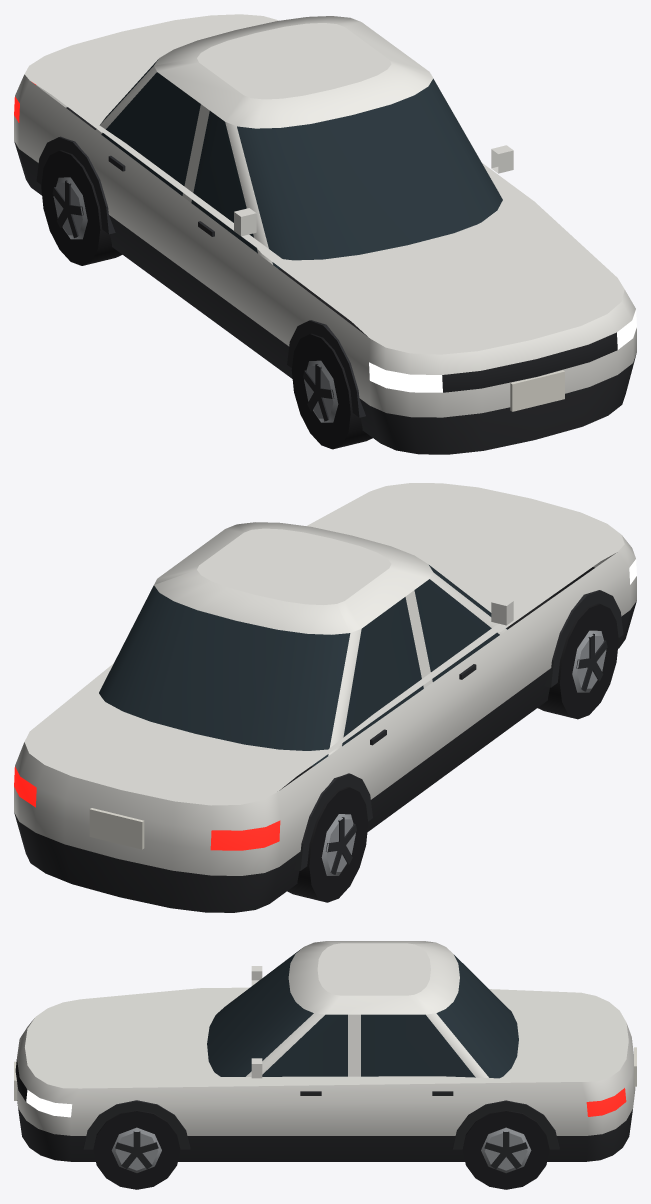
Rendered from tokyo_sedan.glb.
3 renders of one model, top to bottom at view 1: azimuth 30°, elevation 25°; view 2: azimuth 150°, elevation 25°; view 3: azimuth 270°, elevation 25°, orthographic. The views are drawn at different scales.
Visible parts, largest first — view 1: tokyo_sedan; view 2: tokyo_sedan; view 3: tokyo_sedan.
Boxes of the visible parts, left/top/right/bottom form: tokyo_sedan: left=14, top=14, right=636, bottom=454; tokyo_sedan: left=14, top=483, right=636, bottom=912; tokyo_sedan: left=14, top=941, right=636, bottom=1189.
Size of the model in its own units: 1.78 by 1.44 by 4.72.
Materials: 1 (1 with a texture image).
